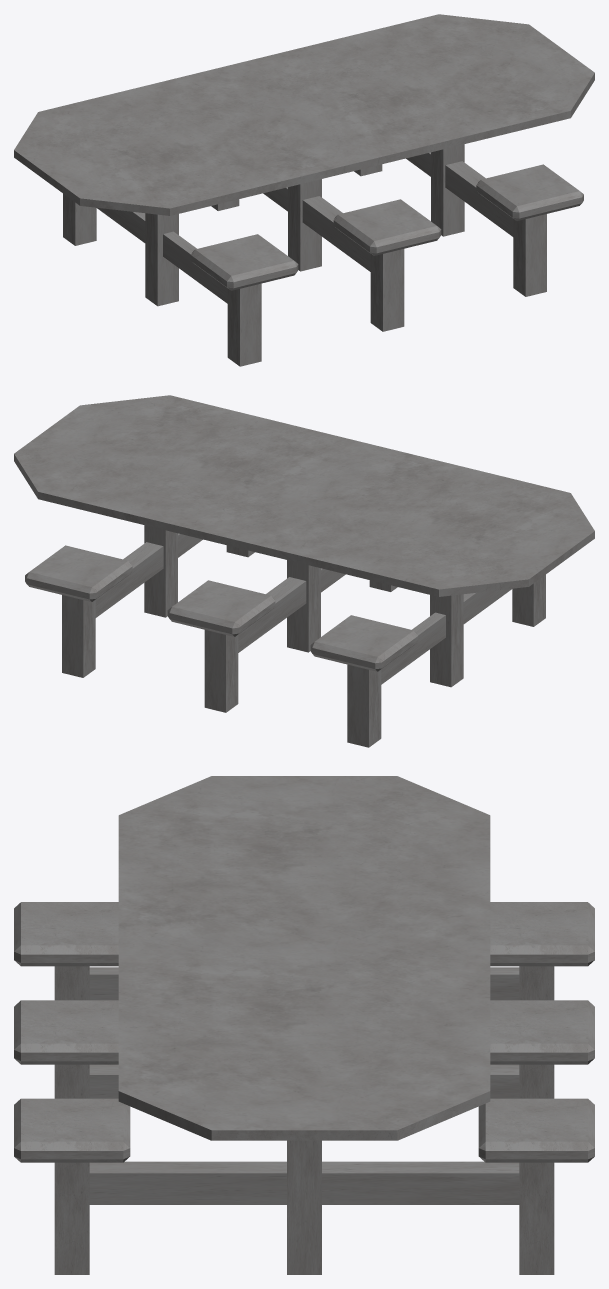
File: gym-table-long.fbx
3 renders of one model, top to bottom at view 1: azimuth 30°, elevation 25°; view 2: azimuth 150°, elevation 25°; view 3: azimuth 270°, elevation 25°, orthographic. The views are drawn at different scales.
Parts seen in each view (by area): view 1: Top, ChairTop2 (×3), LegChair2 (×3), LegLower2 (×3), LegMain2, LegMain, LegMain1, LegChair1; view 2: Top, ChairTop1 (×3), LegChair1 (×3), LegLower2 (×3), LegMain2, LegMain, LegMain1, LegChair2; view 3: Top, LegLower2 (×3), ChairTop2 (×3), ChairTop1 (×3), LegChair2 (×3), LegChair1 (×3), LegMain.
Part boxes in pixels (x1,y1,x2,y2): Top: [14, 14, 594, 215]; ChairTop2 (×3): [190, 164, 583, 290]; LegChair2 (×3): [227, 214, 546, 366]; LegLower2 (×3): [96, 152, 513, 303]; LegMain2: [145, 213, 178, 306]; LegMain: [431, 144, 464, 236]; LegMain1: [288, 179, 321, 271]; LegChair1: [63, 193, 96, 245]; Top: [14, 395, 594, 596]; ChairTop1 (×3): [25, 545, 418, 671]; LegChair1 (×3): [62, 595, 381, 747]; LegLower2 (×3): [95, 533, 512, 684]; LegMain2: [430, 594, 463, 687]; LegMain: [144, 525, 177, 617]; LegMain1: [287, 560, 320, 652]; LegChair2: [512, 574, 545, 626]; Top: [118, 776, 490, 1140]; LegLower2 (×3): [89, 967, 519, 1204]; ChairTop2 (×3): [14, 902, 130, 1162]; ChairTop1 (×3): [478, 902, 594, 1162]; LegChair2 (×3): [54, 966, 89, 1274]; LegChair1 (×3): [519, 966, 554, 1274]; LegMain: [287, 1140, 321, 1274].
Size of the model in its own units: 721 by 205 by 500.
